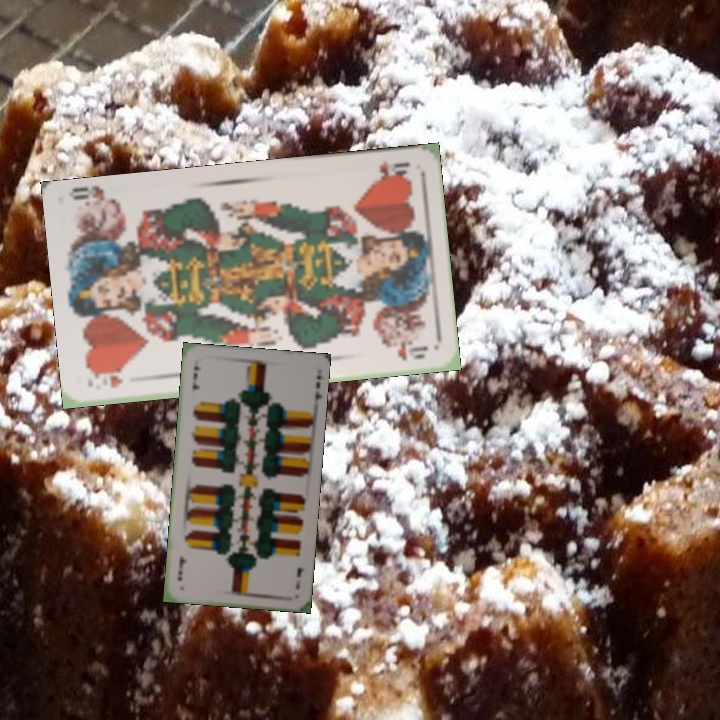E7: (189, 361, 204, 395), (292, 564, 307, 591)
HO: (370, 156, 413, 183), (89, 368, 124, 391)
